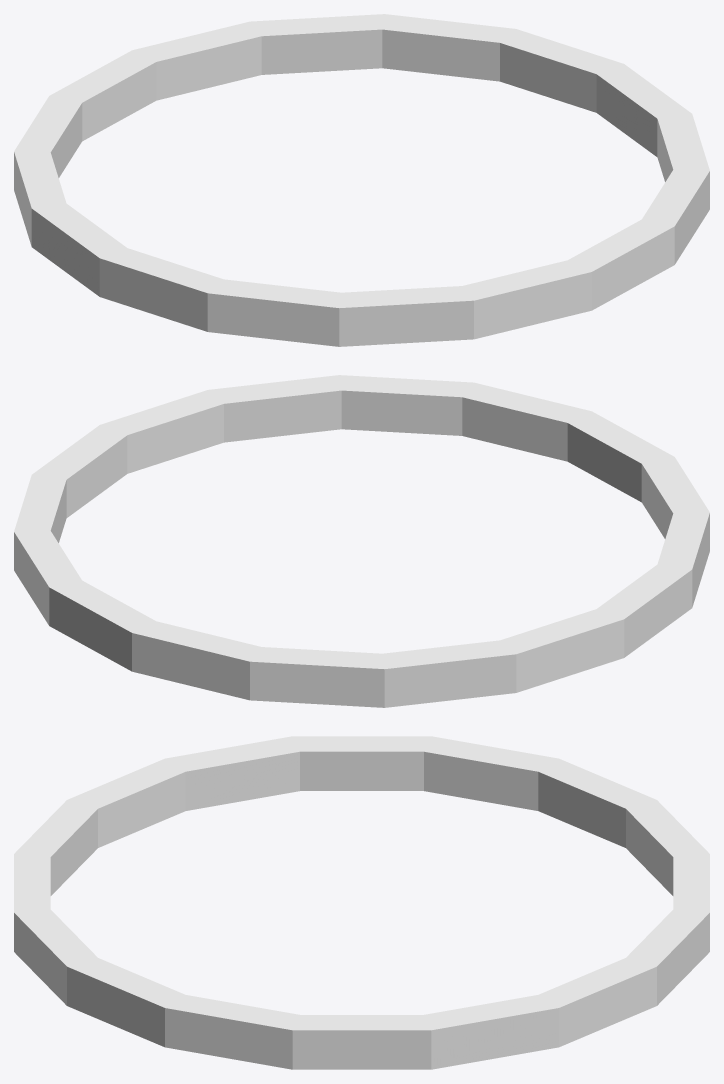
The model's file is gizmoCircle.fbx.
3 renders of one model, top to bottom at view 1: azimuth 30°, elevation 25°; view 2: azimuth 150°, elevation 25°; view 3: azimuth 270°, elevation 25°, orthographic.
Parts seen in each view (by area): view 1: tube; view 2: tube; view 3: tube.
Boxes of the visible parts, bbox=[...] form: tube: bbox=[14, 14, 709, 346]; tube: bbox=[14, 375, 709, 707]; tube: bbox=[14, 736, 709, 1069].
Size of the model in its own units: 100 by 6.25 by 100.
1 material, 1 textured.
